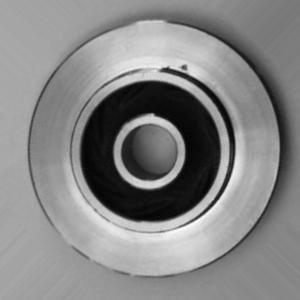crack: (176, 61, 194, 76)
scratch: (115, 61, 169, 80)
unpolished_casting: (25, 18, 283, 280)
